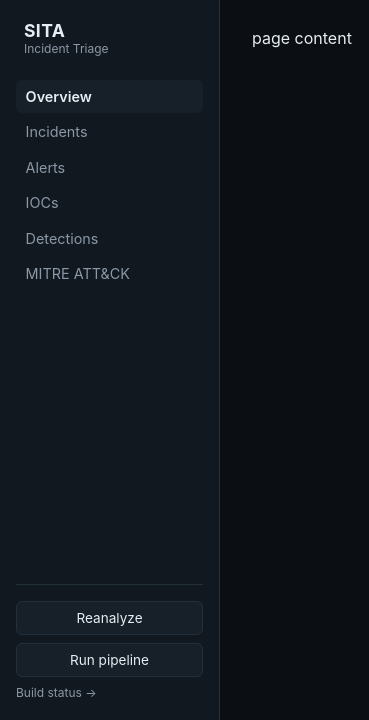
Test: Layout — admin-only action buttons › Reanalyze schedules a job, polls it, and shows the resulting summary
Click the button "Reanalyze".
click(110, 618)  # box [16,601,203,635]
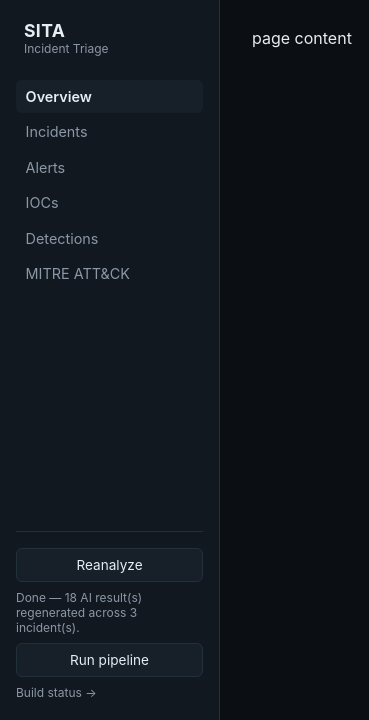
Now the text "Done — 18 AI result(s) regenerated across 3 incident(s)." is shown, box [16,590,142,635]
